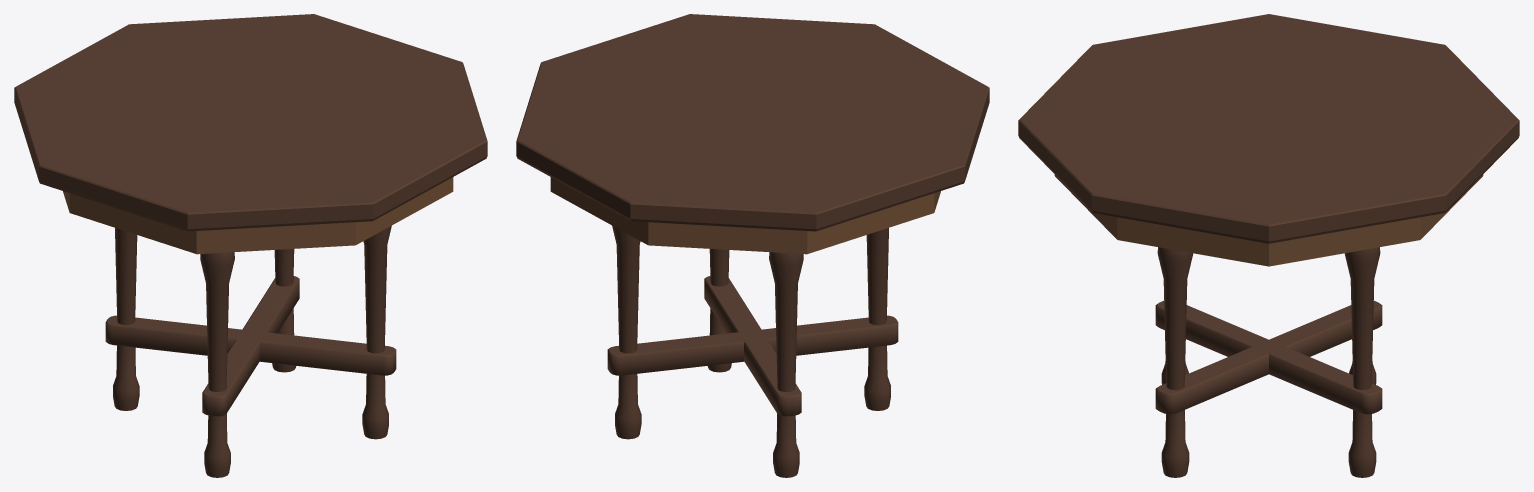
Rendered from rpg-mansion-octagonal-center-table-01.glb.
The picture shows the model from 3 angles, left to right: view 1: azimuth 30°, elevation 25°; view 2: azimuth 150°, elevation 25°; view 3: azimuth 270°, elevation 25°; orthographic projection. The views are drawn at different scales.
Parts seen in each view (by area): view 1: rpg-mansion-octagonal-center-table-01; view 2: rpg-mansion-octagonal-center-table-01; view 3: rpg-mansion-octagonal-center-table-01.
Part boxes in pixels (x1,y1,x2,y2): rpg-mansion-octagonal-center-table-01: [14, 14, 487, 477]; rpg-mansion-octagonal-center-table-01: [516, 14, 989, 477]; rpg-mansion-octagonal-center-table-01: [1018, 14, 1519, 477].
Size of the model in its own units: 1.1 by 0.76 by 1.1.
